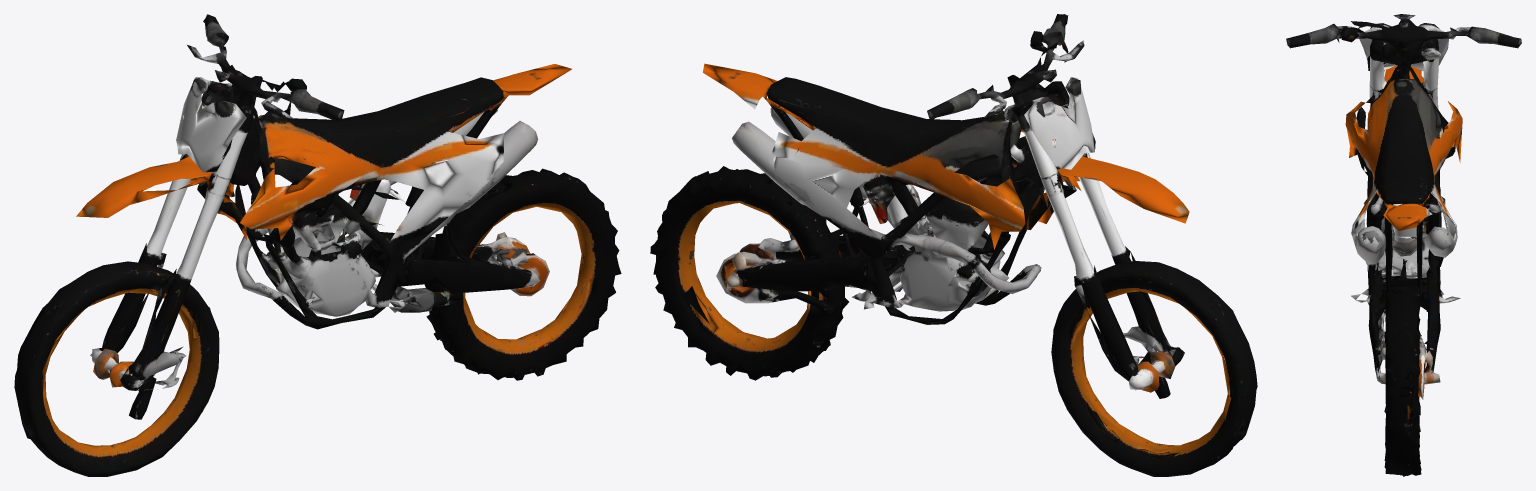
File: bike_450.glb
3 renders of one model, left to right at view 1: azimuth 30°, elevation 25°; view 2: azimuth 150°, elevation 25°; view 3: azimuth 270°, elevation 25°, orthographic. The views are drawn at different scales.
Parts seen in each view (by area): view 1: world; view 2: world; view 3: world.
Part boxes in pixels (x1,y1,x2,y2): world: (14,14,621,476); world: (650,14,1257,476); world: (1286,14,1521,476).
Bounding box in the file's own units: 0.9939 × 0.6087 × 0.3914.
1 material, 1 textured.
